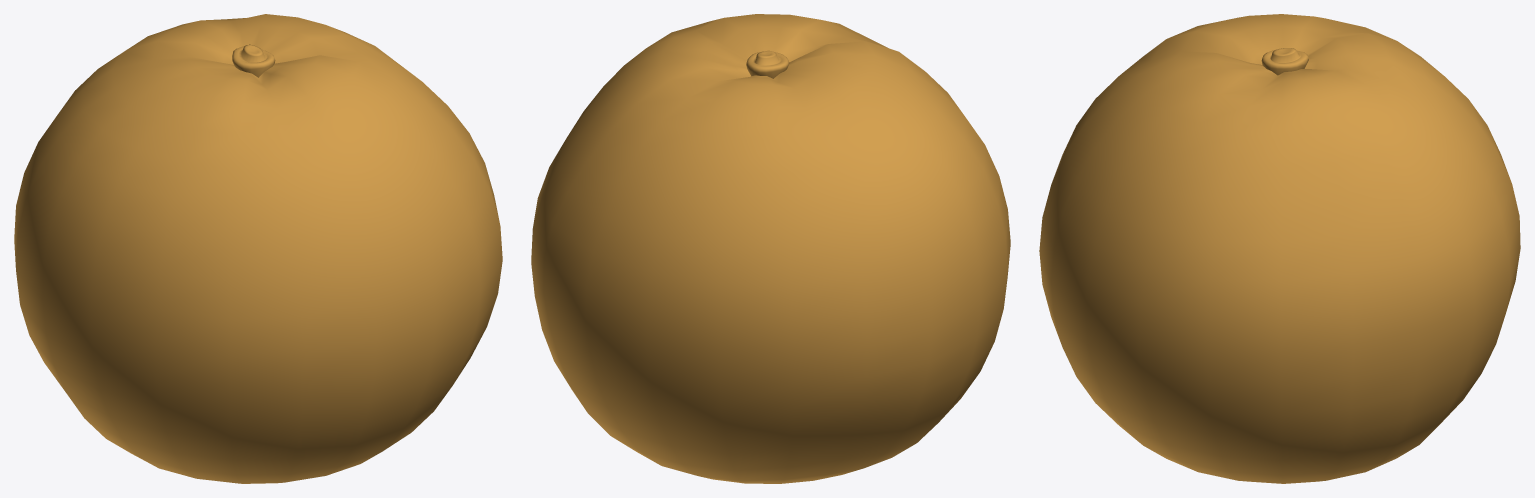
Rendered from OG_orange.fbx.
3 views of the same model, side by side, from view 1: azimuth 30°, elevation 25°; view 2: azimuth 150°, elevation 25°; view 3: azimuth 270°, elevation 25° (orthographic).
Visible parts, largest first — view 1: orange_skin, nub; view 2: orange_skin, nub; view 3: orange_skin, nub.
Part boxes in pixels (left/top/right/bottom): orange_skin: left=14, top=14, right=502, bottom=483; nub: left=232, top=44, right=275, bottom=77; orange_skin: left=531, top=14, right=1010, bottom=483; nub: left=746, top=50, right=789, bottom=78; orange_skin: left=1039, top=14, right=1520, bottom=483; nub: left=1261, top=48, right=1308, bottom=75.
Bounding box in the file's own units: 18.65 × 16.47 × 18.42.
